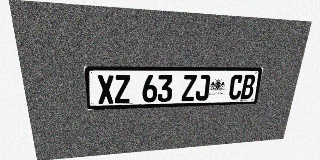3: (157, 75, 173, 102)
6: (142, 75, 158, 102)
B: (240, 75, 256, 99)
C: (228, 75, 244, 100)
J: (195, 75, 210, 101)
X: (97, 75, 114, 104)
Z: (114, 75, 130, 103), (181, 75, 197, 101)
